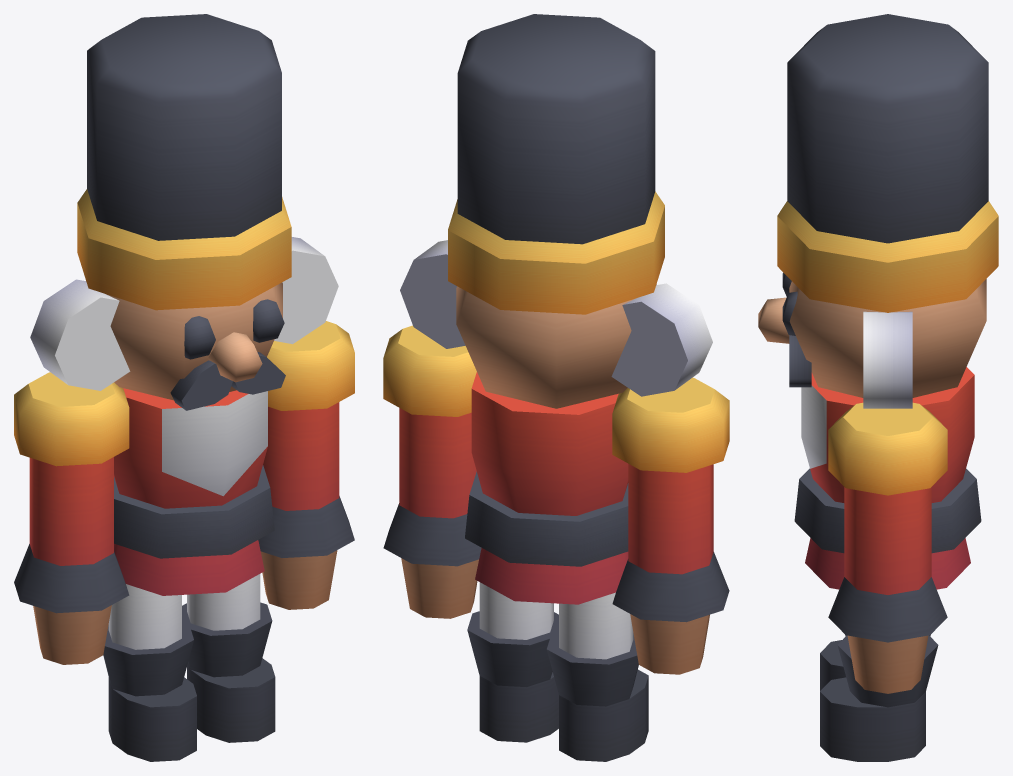
Rendered from nutcracker.obj.
The picture shows the model from 3 angles, left to right: view 1: azimuth 30°, elevation 25°; view 2: azimuth 150°, elevation 25°; view 3: azimuth 270°, elevation 25°; orthographic projection.
Parts seen in each view (by area): view 1: nutcracker; view 2: nutcracker; view 3: nutcracker.
Boxes of the visible parts, box(x1,y1,x2,y2) form: nutcracker: box(14, 14, 354, 761); nutcracker: box(383, 14, 729, 761); nutcracker: box(758, 14, 998, 761).
Bounding box in the file's own units: 0.5484 × 1.08 × 0.3475.
Materials: 1 (1 with a texture image).
